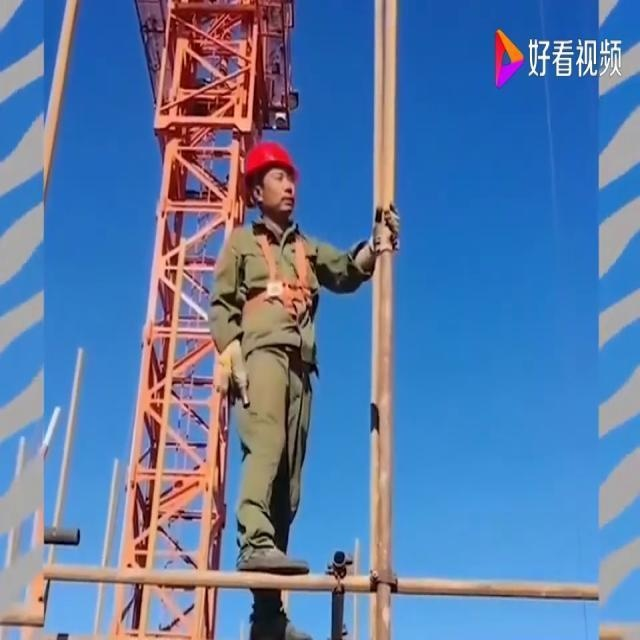Arnes_seguridad: (237, 212, 317, 332)
